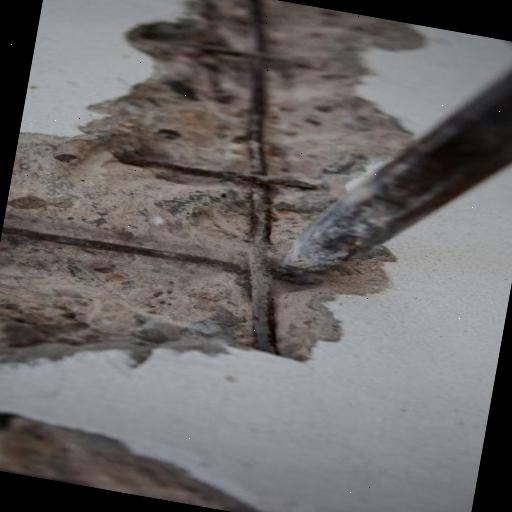spalling: (2, 0, 382, 350)
